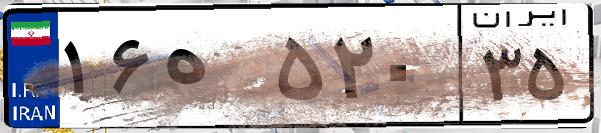0: (385, 28, 445, 110)
1: (57, 26, 110, 100)
2: (330, 28, 385, 110)
3: (475, 38, 525, 113)
5: (270, 28, 330, 110), (525, 38, 570, 115)
6: (110, 28, 158, 98)
ه: (158, 20, 270, 120)
